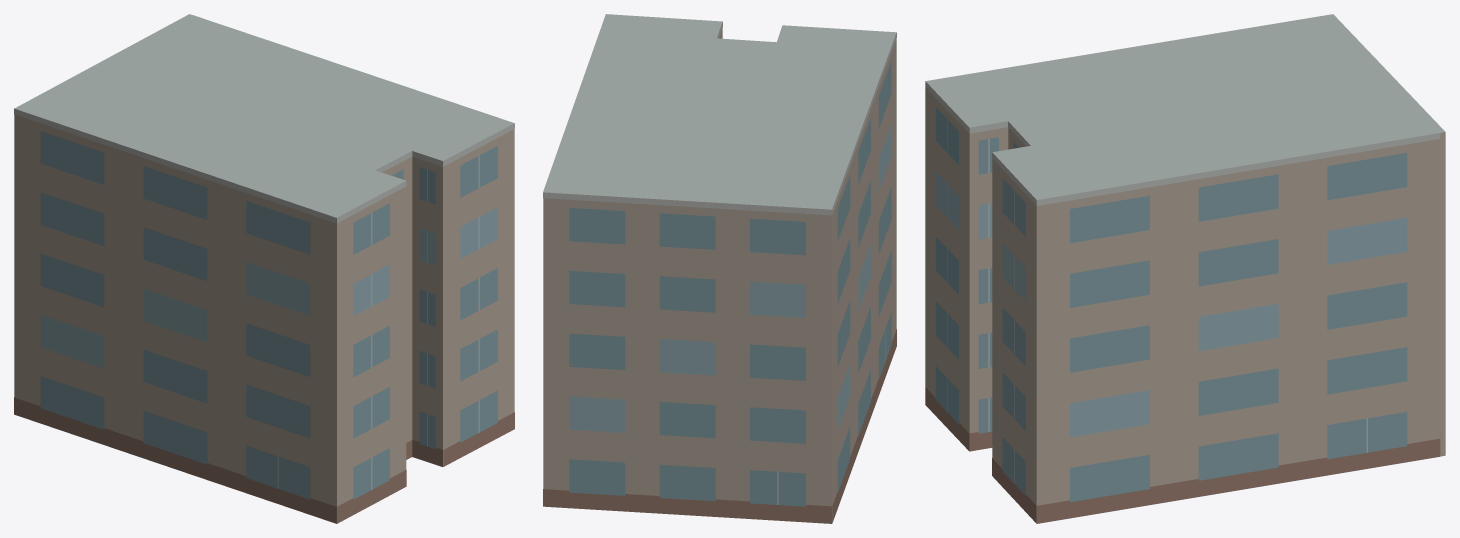
Rendered from survey-upis-33008987.glb.
3 views of the same model, side by side, from view 1: azimuth 30°, elevation 25°; view 2: azimuth 150°, elevation 25°; view 3: azimuth 270°, elevation 25° (orthographic). The views are drawn at different scales.
Parts seen in each view (by area): view 1: survey-upis-33008987.tmp; view 2: survey-upis-33008987.tmp; view 3: survey-upis-33008987.tmp.
Boxes of the visible parts, bbox=[...] form: survey-upis-33008987.tmp: bbox=[14, 14, 514, 523]; survey-upis-33008987.tmp: bbox=[543, 14, 896, 523]; survey-upis-33008987.tmp: bbox=[925, 14, 1445, 523].
Size of the model in its own units: 16.28 by 13.2 by 19.23.
